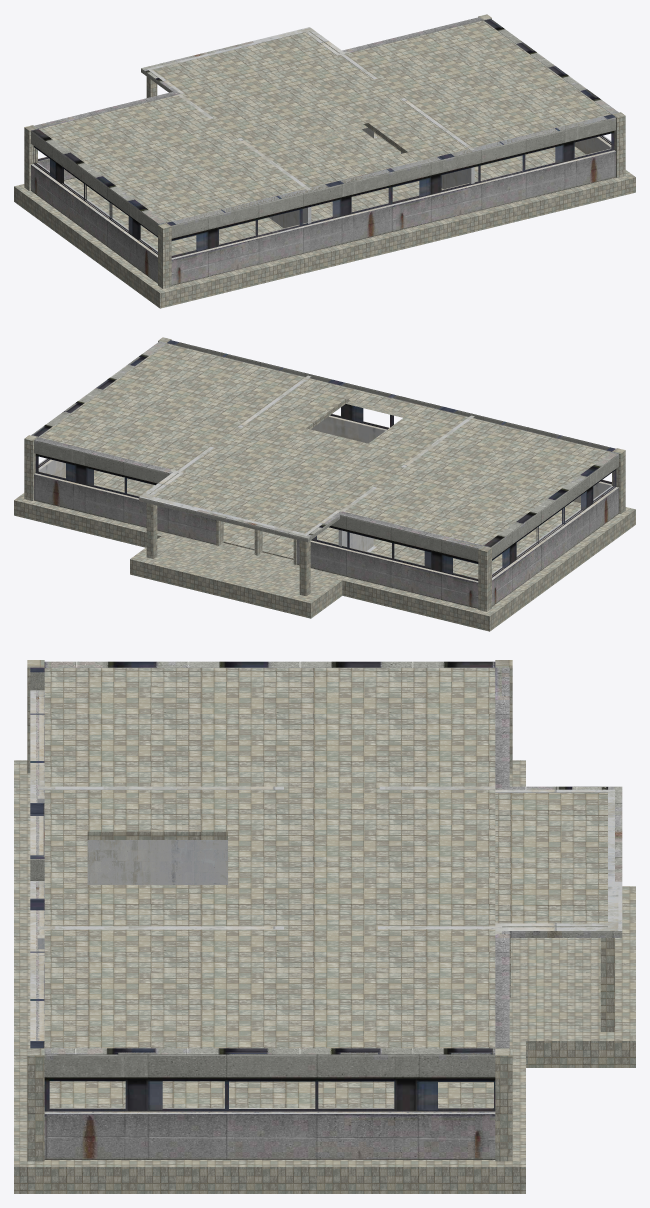
The model's file is BagSS05base_300.fbx.
3 views of the same model, one above another, from view 1: azimuth 30°, elevation 25°; view 2: azimuth 150°, elevation 25°; view 3: azimuth 270°, elevation 25° (orthographic). The views are drawn at different scales.
Visible parts, largest first — view 1: baseCeiling300, baseMain300, baseFloor300, baseWalls300; view 2: baseCeiling300, baseMain300, baseFloor300, baseWalls300; view 3: baseCeiling300, baseMain300, baseFloor300, baseWalls300.
Boxes of the visible parts, x1,y1,x2,y2 form: baseCeiling300: [39, 20, 611, 255]; baseMain300: [31, 17, 618, 285]; baseFloor300: [14, 14, 635, 308]; baseWalls300: [31, 20, 615, 259]; baseCeiling300: [38, 343, 610, 578]; baseMain300: [31, 340, 618, 608]; baseFloor300: [14, 337, 635, 631]; baseWalls300: [34, 343, 618, 582]; baseCeiling300: [44, 668, 607, 1107]; baseMain300: [30, 661, 622, 1159]; baseFloor300: [14, 660, 635, 1193]; baseWalls300: [30, 667, 622, 1113].
Bounding box in the file's own units: 43.75 × 6.65 × 28.28.
